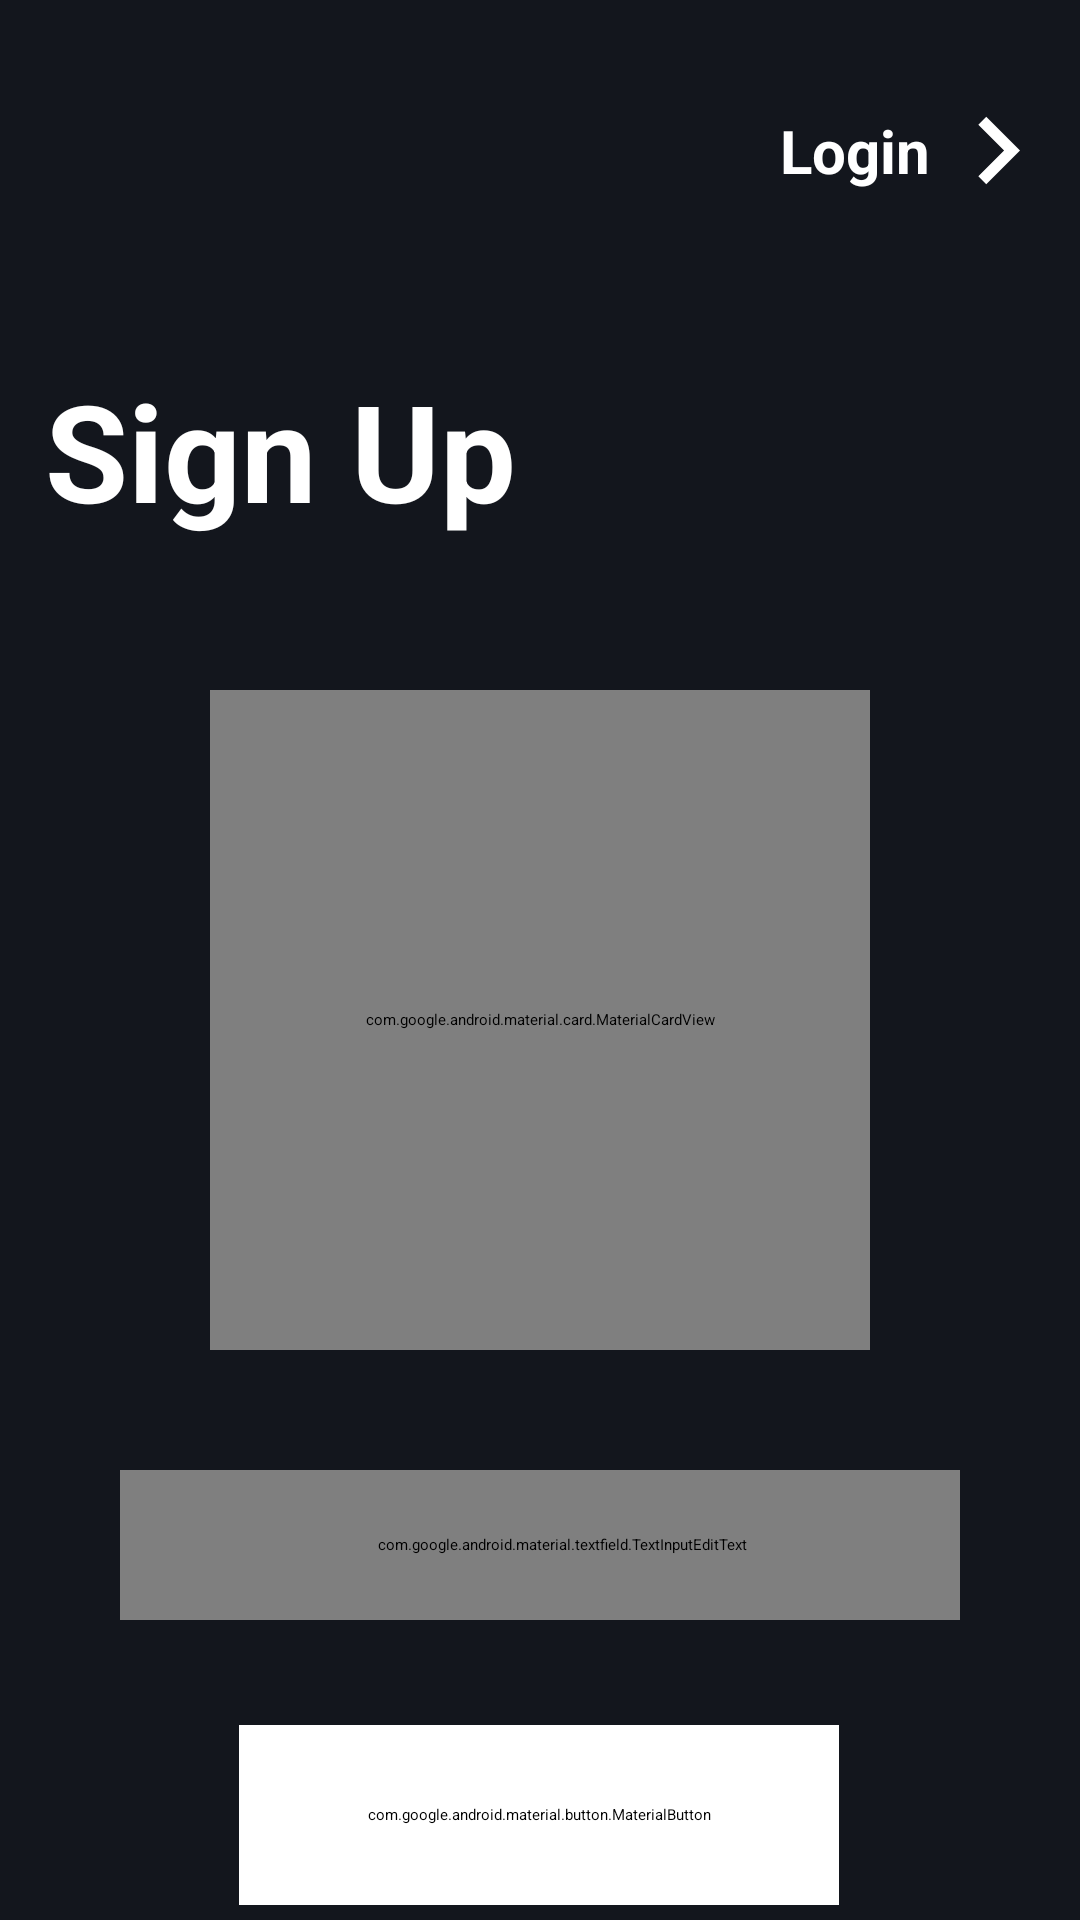

Icon click points for this 1080px x 1920px phone screenshot, format (x,y):
keyboard arrow right: (999,150)
